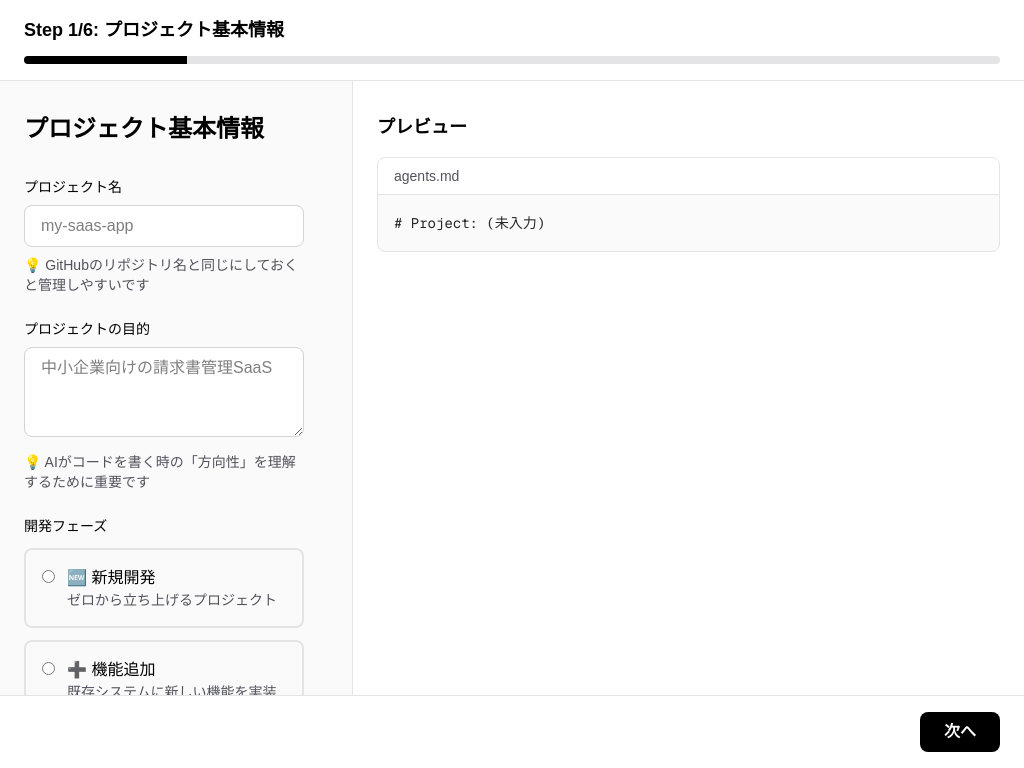
Test: Wizard Page › Preview Area › updates preview when project name is entered
Type "my-awesome-app" into the field labelled "プロジェクト名". click: [164, 226]
box: [24, 205, 304, 247]
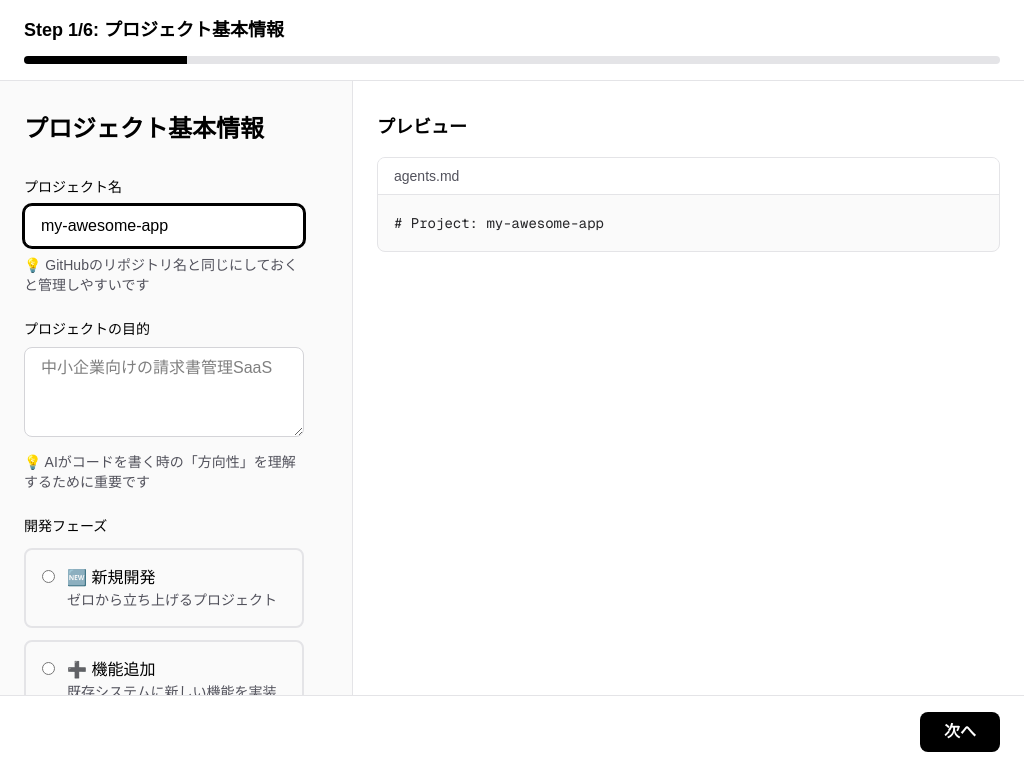
Now the text "# Project: my-awesome-app" is shown, box [394, 214, 604, 232]
